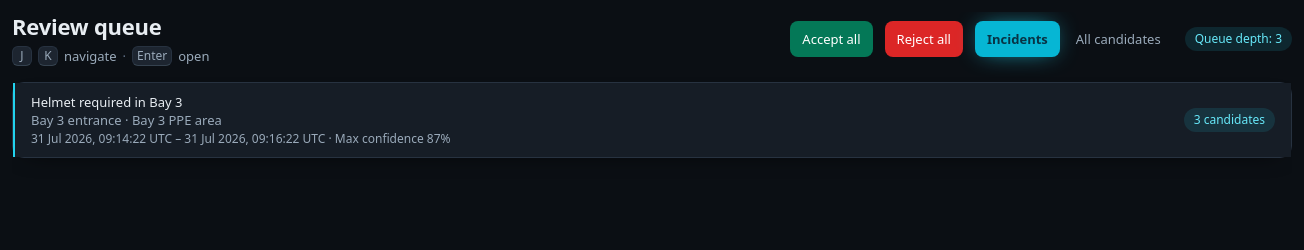
Scenario: QueuePage › switches to the flat view with camera, zone, rule and status chips
expect the text "Helmet required in Bay 3" is shown: met, box [31, 93, 182, 111]
Click the button "All candidates": [1118, 39] box [1064, 21, 1173, 57]
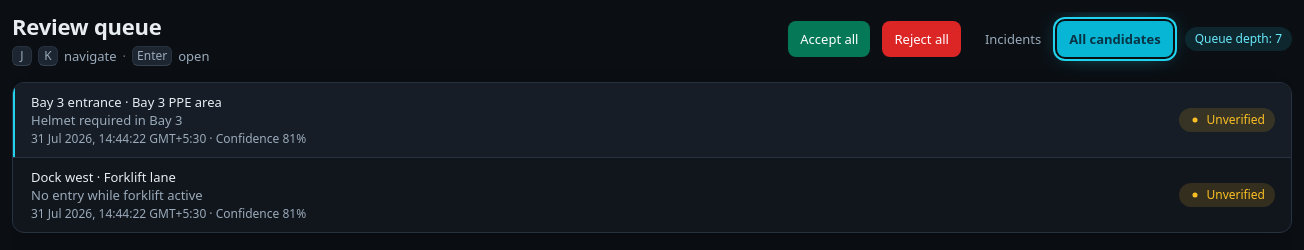
expect the text "No entry while forklift active" is shown: met, box [31, 186, 203, 204]
expect the text "Queue depth: 7" is shown: met, box [1185, 27, 1292, 51]
expect the text "Unverified" is shown 2 times: met, box [1178, 108, 1275, 132]; [1178, 183, 1275, 207]
